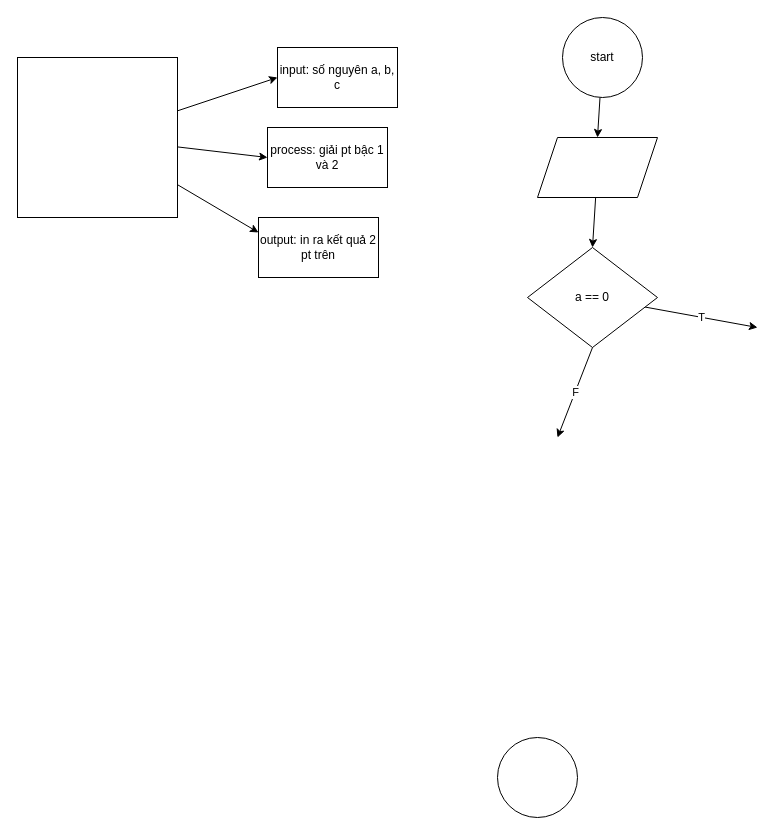
Some shapes in this 783 by 835 pixel diagram are drawn without their labels. Each missing label, with the box of its shape:
end: (496, 736, 578, 818)
input: a, b, c: (536, 136, 658, 198)
nhập 3 số nguyên a, b, c. tính phương trình bậc 1 và bậc 2: (16, 56, 178, 218)
